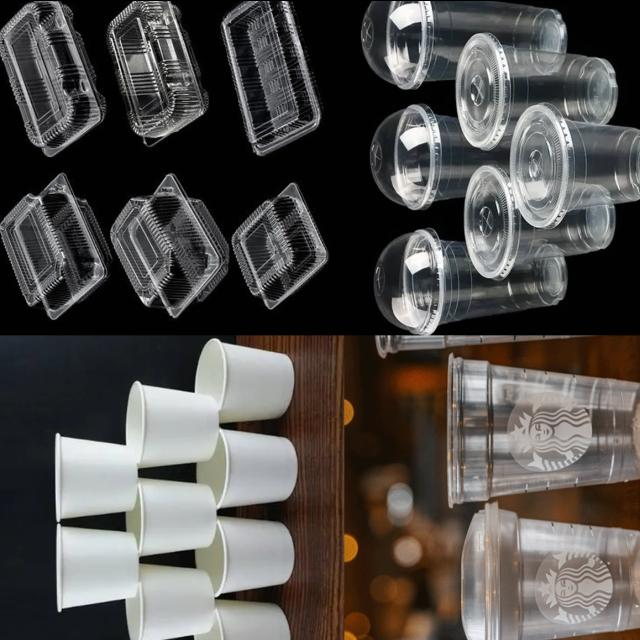plastik: (448, 354, 640, 504), (462, 502, 640, 640), (373, 228, 567, 334), (458, 32, 617, 149), (361, 0, 567, 88), (466, 164, 616, 279), (111, 173, 228, 316), (0, 0, 105, 156), (510, 102, 640, 228), (0, 173, 111, 318), (221, 0, 321, 155), (107, 0, 208, 145), (371, 104, 509, 209), (231, 182, 327, 308), (195, 337, 293, 421), (126, 380, 219, 467), (195, 515, 294, 596), (196, 428, 297, 507), (56, 524, 138, 611), (56, 432, 138, 519), (126, 477, 217, 555), (126, 562, 214, 640), (194, 598, 290, 640)
